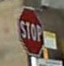stop: (15, 3, 45, 58)
